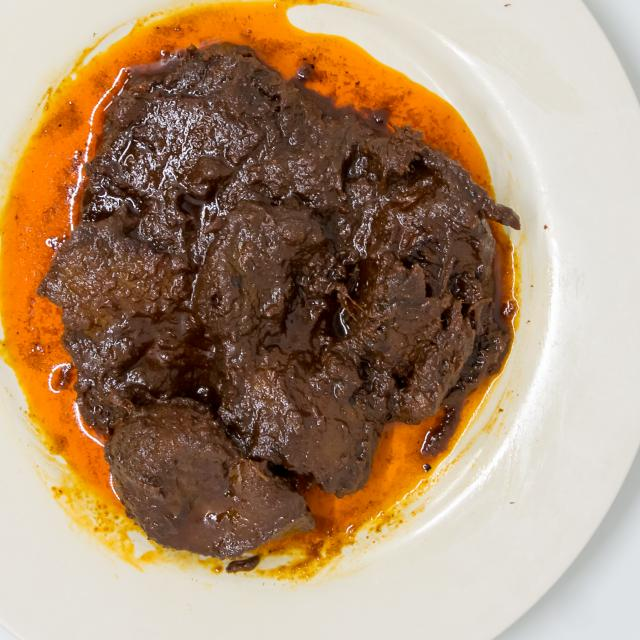Rendang: (38, 29, 530, 567)
